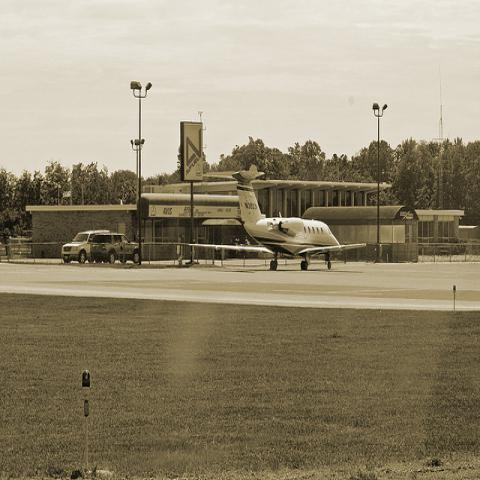car: (61, 229, 124, 264), (90, 234, 139, 266)
truck: (90, 233, 144, 264)
